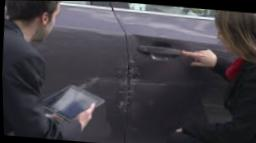Door: (124, 54, 145, 117), (112, 54, 127, 120)
